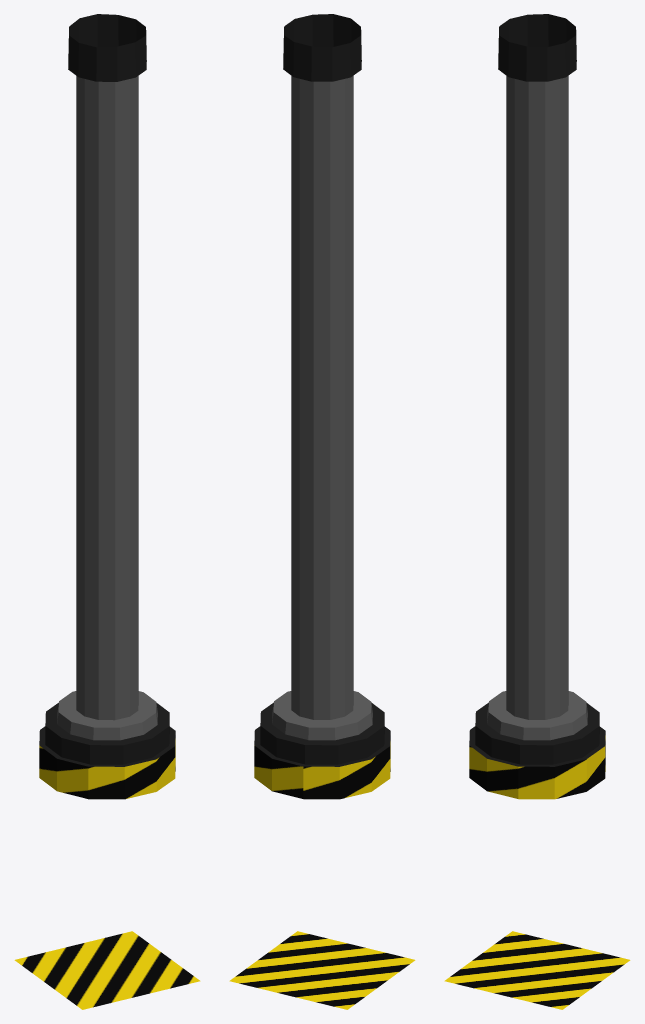
Rendered from RoofTrap.fbx.
3 renders of one model, left to right at view 1: azimuth 30°, elevation 25°; view 2: azimuth 150°, elevation 25°; view 3: azimuth 330°, elevation 25°, orthographic.
Parts seen in each view (by area): view 1: Trap, Plane; view 2: Trap, Plane; view 3: Trap, Plane.
Boxes of the visible parts, x1=… form: Trap: x1=39, y1=14, x2=175, y2=799; Plane: x1=14, y1=931, x2=200, y2=1009; Trap: x1=254, y1=14, x2=390, y2=799; Plane: x1=229, y1=931, x2=415, y2=1009; Trap: x1=469, y1=14, x2=605, y2=799; Plane: x1=444, y1=931, x2=630, y2=1009.
Bounding box in the file's own units: 280 × 2127 × 280.
